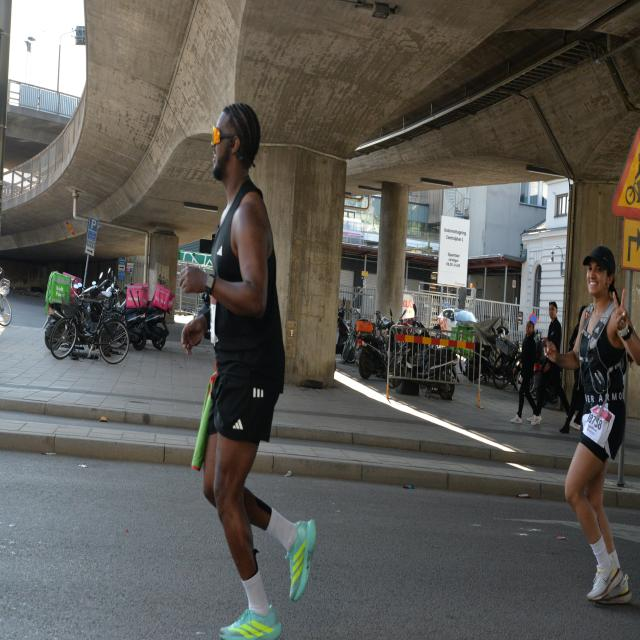runner-detect: (170, 97, 329, 636), (556, 236, 635, 613)
